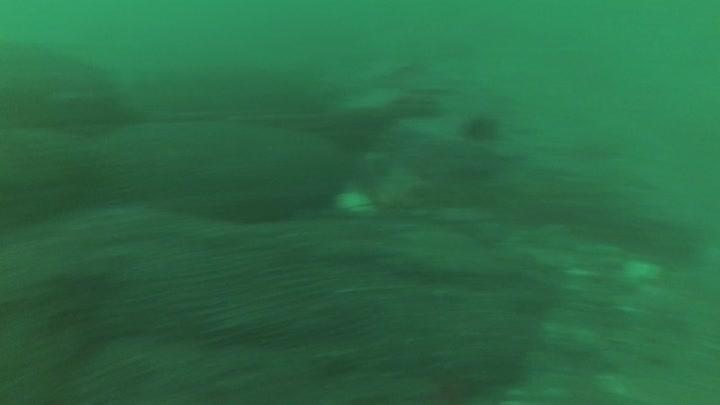echinus: (460, 110, 503, 145)
